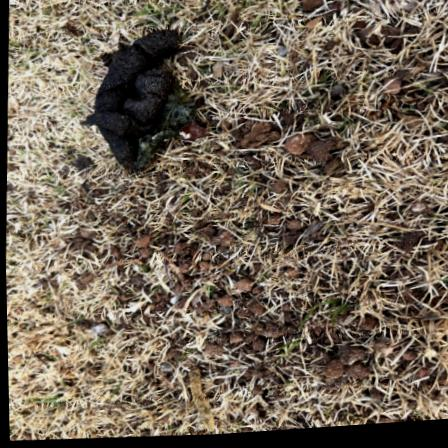dog-poop: (81, 26, 188, 176)
